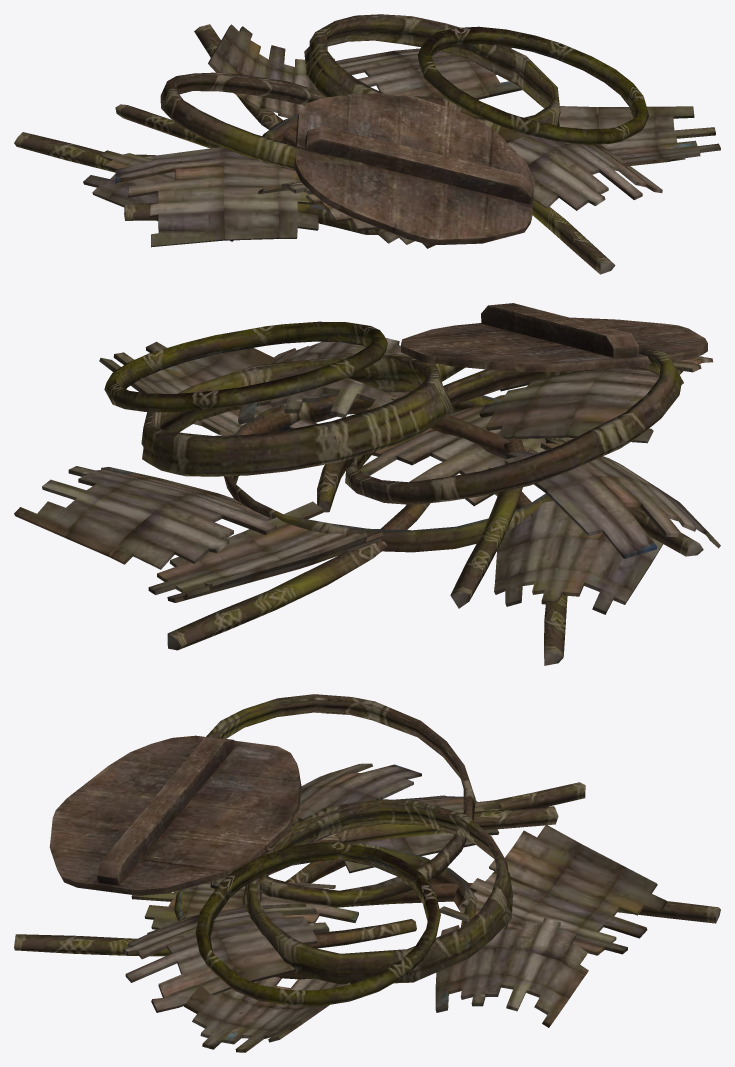
Rendered from bamboo_barrel.corpse.glb.
3 renders of one model, top to bottom at view 1: azimuth 30°, elevation 25°; view 2: azimuth 150°, elevation 25°; view 3: azimuth 270°, elevation 25°, orthographic. The views are drawn at different scales.
Visible parts, largest first — view 1: bamboo_barrel.corpse_combinedmesh; view 2: bamboo_barrel.corpse_combinedmesh; view 3: bamboo_barrel.corpse_combinedmesh.
Boxes of the visible parts, left/top/right/bottom form: bamboo_barrel.corpse_combinedmesh: left=14, top=14, right=720, bottom=274; bamboo_barrel.corpse_combinedmesh: left=14, top=303, right=720, bottom=665; bamboo_barrel.corpse_combinedmesh: left=14, top=694, right=720, bottom=1052.
Bounding box in the file's own units: 1.88 × 0.4024 × 2.08.
Materials: 1 (1 with a texture image).
